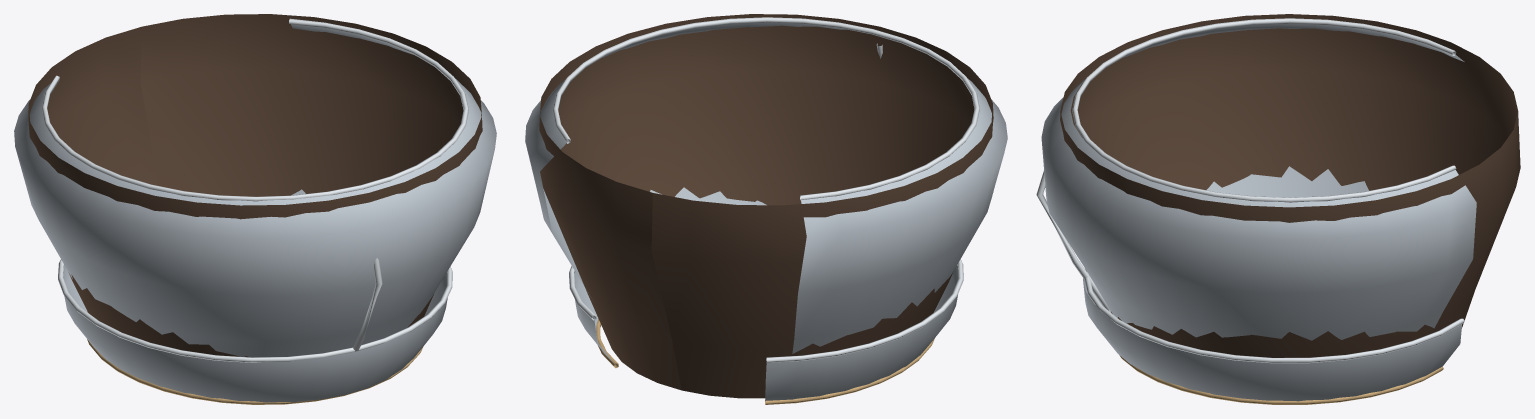
Rendered from bracer.glb.
3 renders of one model, left to right at view 1: azimuth 30°, elevation 25°; view 2: azimuth 150°, elevation 25°; view 3: azimuth 270°, elevation 25°, orthographic.
Parts seen in each view (by area): view 1: leather_vambrace, fluted_vambrace, wrist_lame, fluted_vambrace_bevel, wrist_lame_bevel, wrist_lame_gold_rim, vambrace_ridge; view 2: leather_vambrace, fluted_vambrace, wrist_lame, fluted_vambrace_bevel, wrist_lame_bevel, wrist_lame_gold_rim; view 3: leather_vambrace, fluted_vambrace, wrist_lame, fluted_vambrace_bevel, wrist_lame_bevel, wrist_lame_gold_rim, vambrace_ridge.
Boxes of the visible parts, bbox=[...] form: leather_vambrace: bbox=[28, 14, 482, 357]; fluted_vambrace: bbox=[14, 24, 496, 357]; wrist_lame: bbox=[63, 265, 447, 402]; fluted_vambrace_bevel: bbox=[41, 18, 468, 201]; wrist_lame_bevel: bbox=[58, 259, 452, 362]; wrist_lame_gold_rim: bbox=[87, 311, 423, 404]; vambrace_ridge: bbox=[353, 258, 382, 351]; leather_vambrace: bbox=[539, 14, 993, 398]; fluted_vambrace: bbox=[525, 22, 1007, 353]; wrist_lame: bbox=[574, 265, 958, 400]; fluted_vambrace_bevel: bbox=[552, 17, 979, 200]; wrist_lame_bevel: bbox=[569, 259, 963, 362]; wrist_lame_gold_rim: bbox=[596, 319, 934, 404]; leather_vambrace: bbox=[1060, 14, 1520, 357]; fluted_vambrace: bbox=[1041, 23, 1476, 340]; wrist_lame: bbox=[1083, 269, 1461, 401]; fluted_vambrace_bevel: bbox=[1072, 18, 1456, 202]; wrist_lame_bevel: bbox=[1084, 270, 1464, 363]; wrist_lame_gold_rim: bbox=[1119, 355, 1443, 404]; vambrace_ridge: bbox=[1036, 171, 1109, 310].
Size of the model in its own units: 2 by 1.02 by 1.99.
